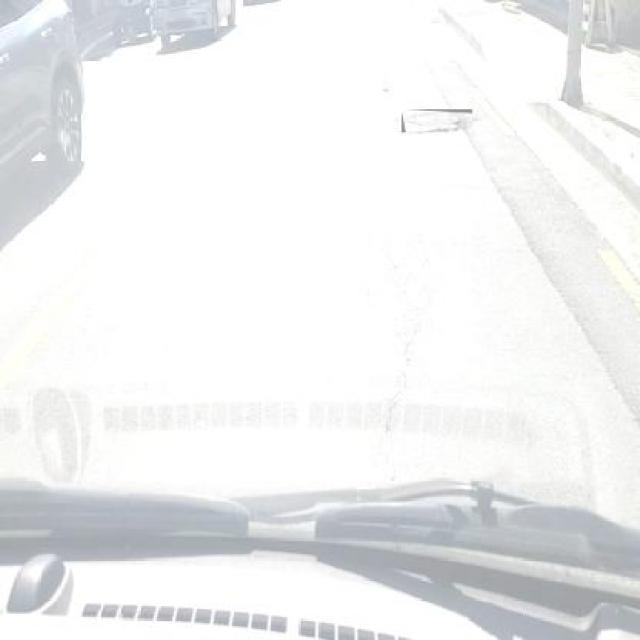Manhole: (402, 110, 473, 132)
